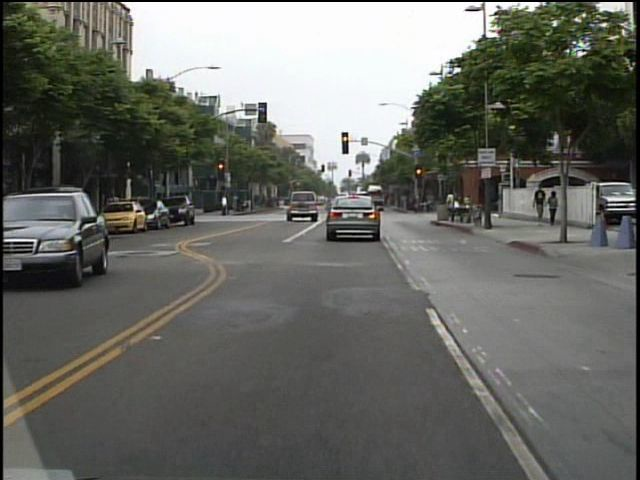person: (530, 182, 548, 226), (442, 188, 462, 225), (544, 187, 561, 228), (218, 191, 232, 218)
